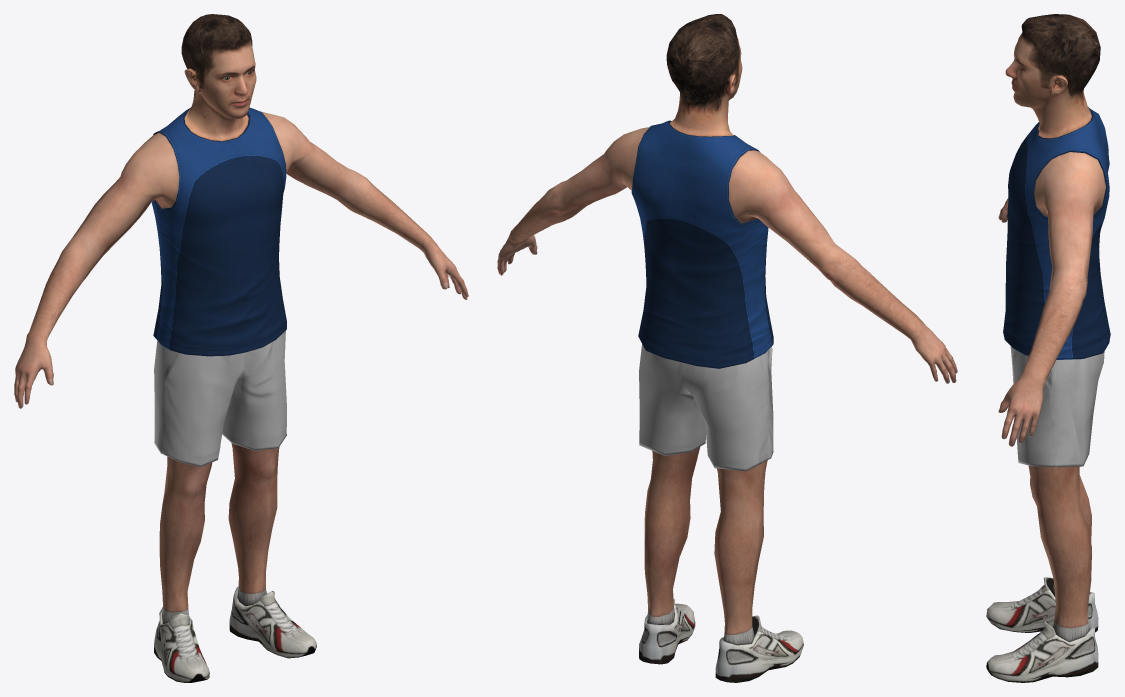
Rendered from patient.glb.
The picture shows the model from 3 angles, left to right: view 1: azimuth 30°, elevation 25°; view 2: azimuth 150°, elevation 25°; view 3: azimuth 270°, elevation 25°; orthographic projection.
Visible parts, largest first — view 1: patient; view 2: patient; view 3: patient.
Part boxes in pixels (left/top/right/bottom): patient: left=14, top=14, right=468, bottom=682; patient: left=497, top=14, right=957, bottom=682; patient: left=986, top=14, right=1110, bottom=682.
Bounding box in the file's own units: 1.35 × 1.8 × 0.3222.
2 materials, 2 textured.
